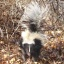skunk: (20, 6, 43, 57)
